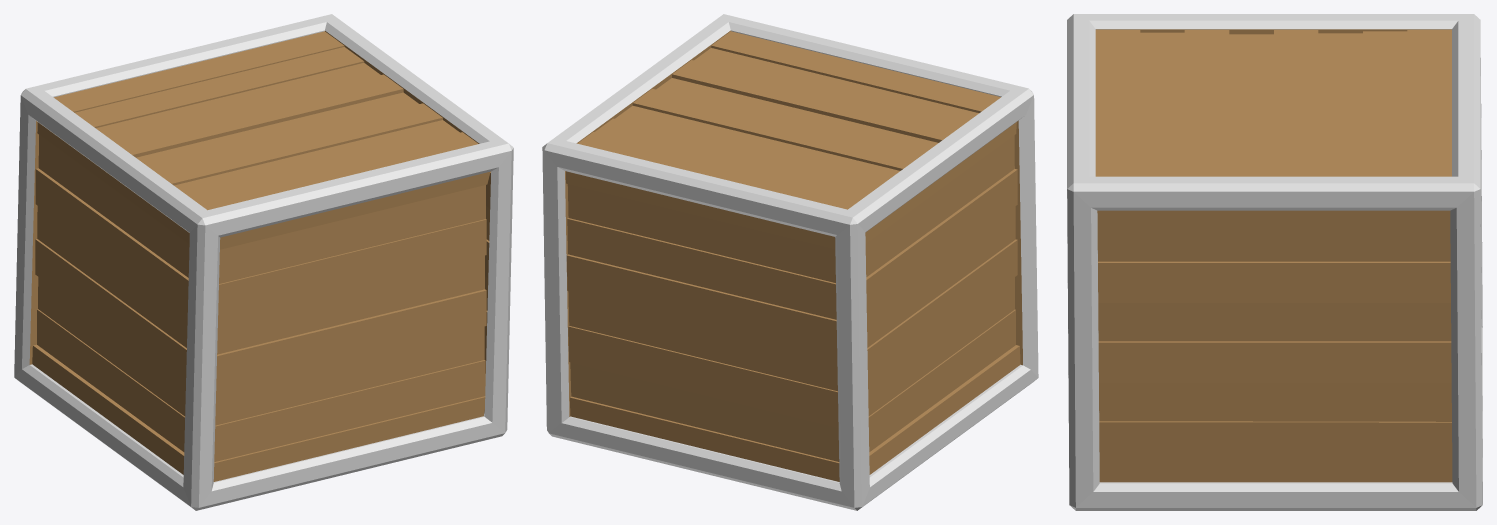
The model's file is Kiste.fbx.
3 views of the same model, side by side, from view 1: azimuth 30°, elevation 25°; view 2: azimuth 150°, elevation 25°; view 3: azimuth 270°, elevation 25° (orthographic). The views are drawn at different scales.
Parts seen in each view (by area): view 1: Kiste; view 2: Kiste; view 3: Kiste.
Part boxes in pixels (left/top/right/bottom): Kiste: left=14, top=14, right=513, bottom=510; Kiste: left=542, top=14, right=1038, bottom=510; Kiste: left=1067, top=14, right=1482, bottom=510.
Size of the model in its own units: 75.28 by 65.33 by 74.41.
